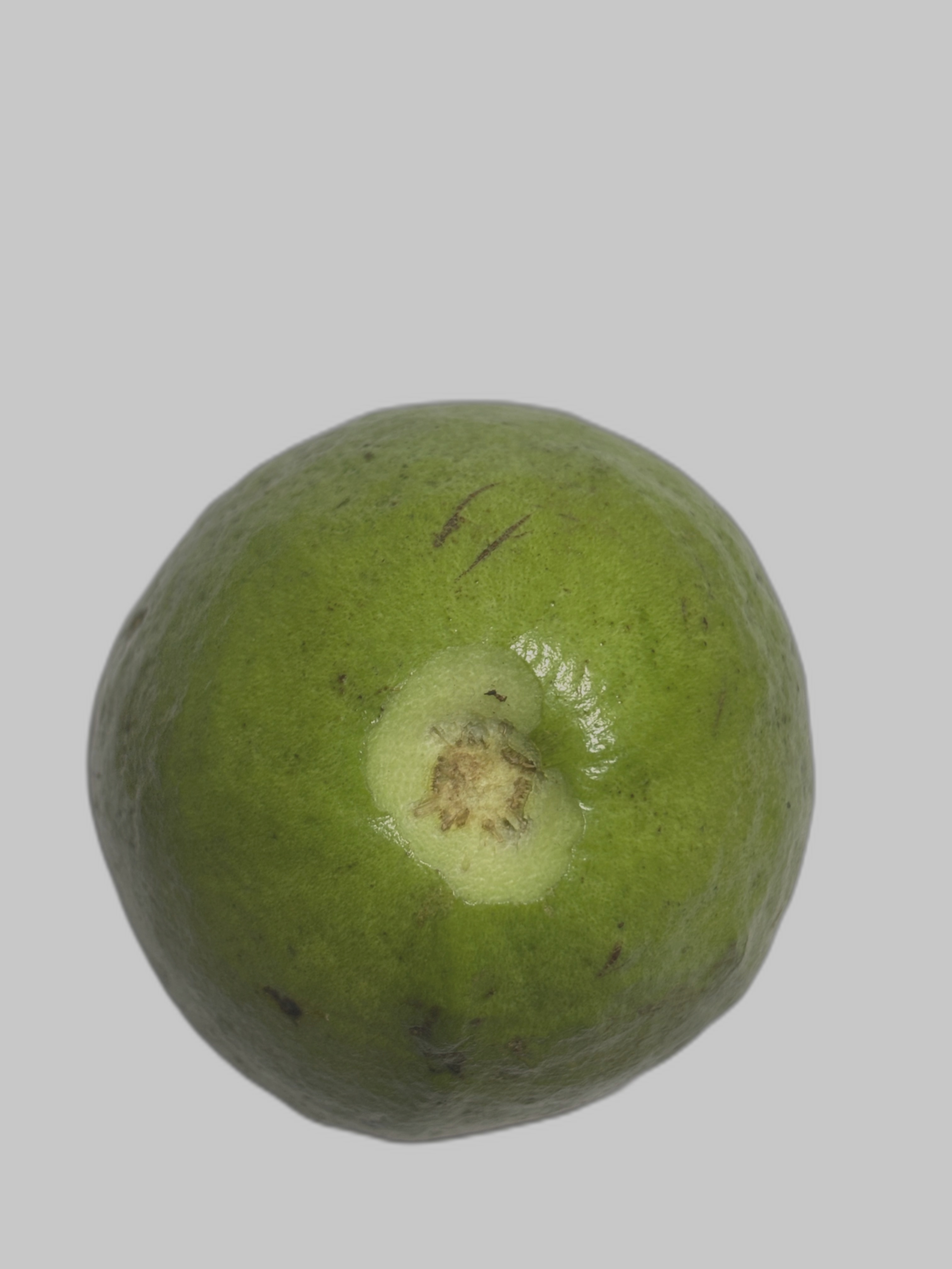guava: (136, 270, 786, 1233)
